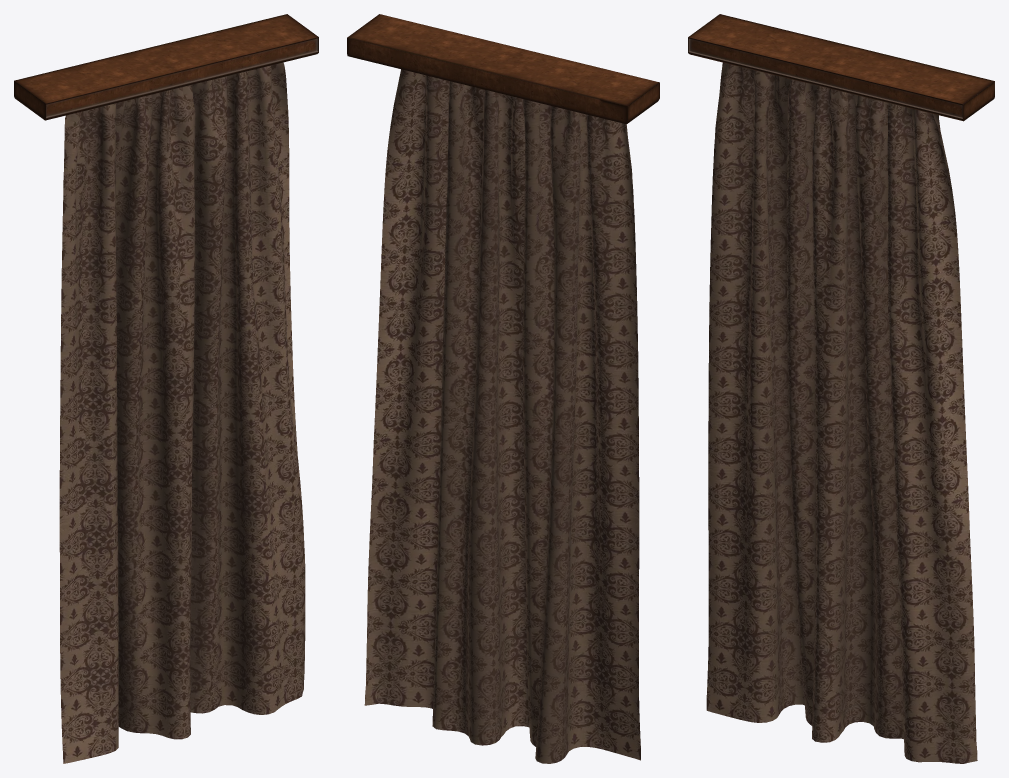
Rendered from rideaux.glb.
3 renders of one model, left to right at view 1: azimuth 30°, elevation 25°; view 2: azimuth 150°, elevation 25°; view 3: azimuth 330°, elevation 25°, orthographic. The views are drawn at different scales.
Parts seen in each view (by area): view 1: Plane.001_curtains cloth_0, Cube.002_curtains wood_0; view 2: Plane.001_curtains cloth_0, Cube.002_curtains wood_0; view 3: Plane.001_curtains cloth_0, Cube.002_curtains wood_0.
Part boxes in pixels (x1,y1,x2,y2): Plane.001_curtains cloth_0: (59,62,305,763); Cube.002_curtains wood_0: (14,14,318,120); Plane.001_curtains cloth_0: (364,69,640,763); Cube.002_curtains wood_0: (347,14,659,124); Plane.001_curtains cloth_0: (706,62,977,763); Cube.002_curtains wood_0: (688,14,994,121).
Bounding box in the file's own units: 1.31 × 3.04 × 0.3029.
2 materials, 2 textured.
